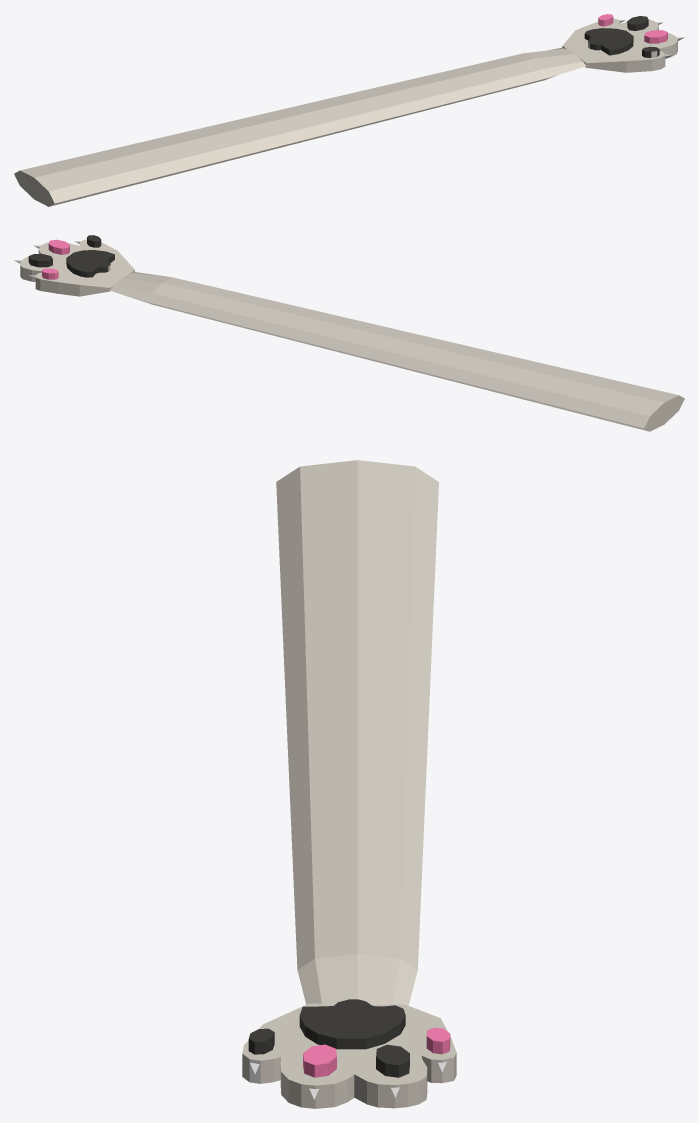
The model's file is lapka2.fbx.
3 views of the same model, one above another, from view 1: azimuth 30°, elevation 25°; view 2: azimuth 150°, elevation 25°; view 3: azimuth 270°, elevation 25° (orthographic). The views are drawn at different scales.
Visible parts, largest first — view 1: Circle.026; view 2: Circle.026; view 3: Circle.026.
Part boxes in pixels (bbox=[...]): Circle.026: bbox=[14, 14, 684, 206]; Circle.026: bbox=[14, 235, 684, 431]; Circle.026: bbox=[242, 460, 456, 1108].
Size of the model in its own units: 159 by 5.53 by 23.03.
